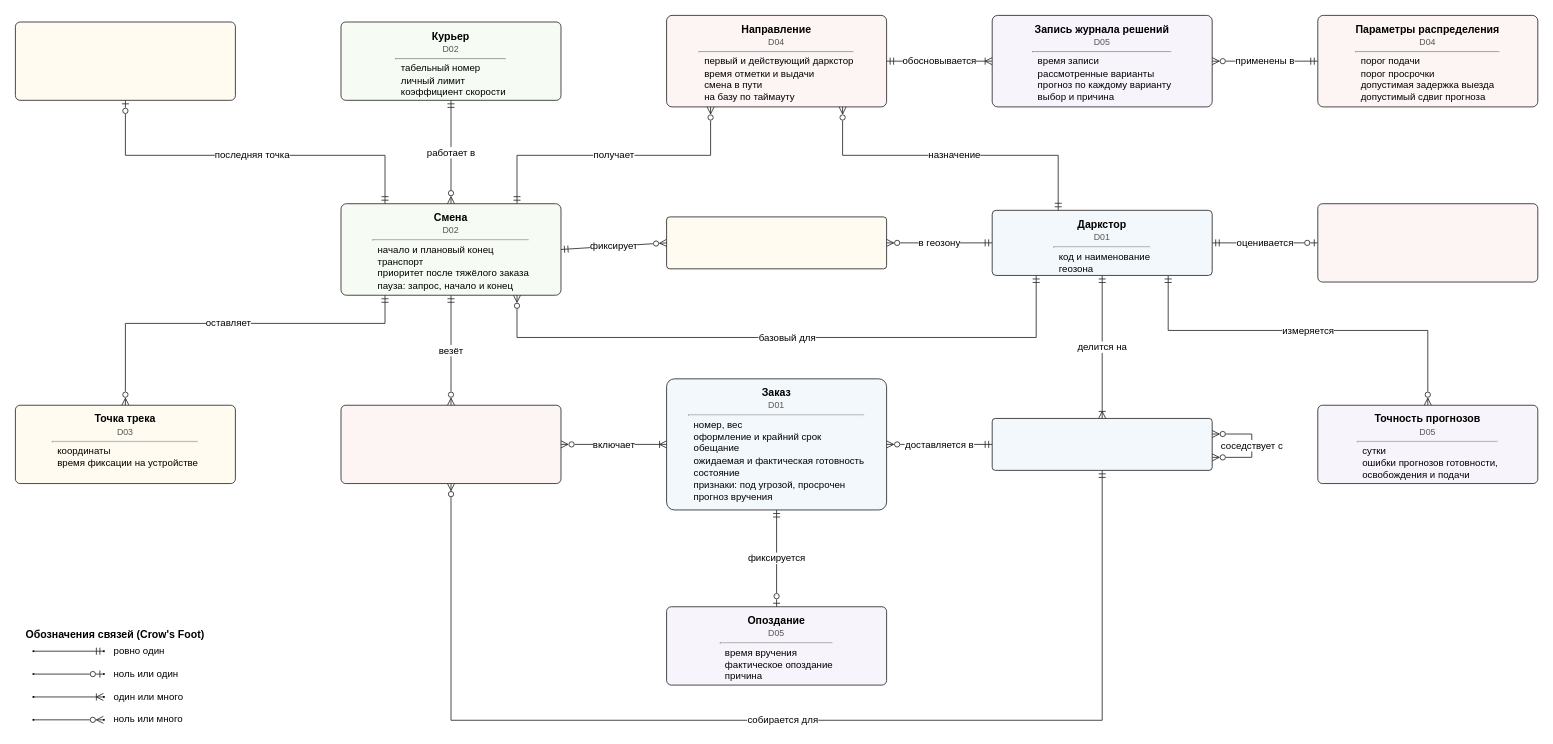
Some shapes in this 1553 by 744 pixel diagram are drawn without their labels. The shapes that lost their labels are listed below. From the top down, each one's centre as x and y in pixels, then its label:
At pixel 125 60: "Местоположение курьера D03 последняя точка время получения прогноз освобождения".
At pixel 776 242: "Прибытие D03 время входа в геозону".
At pixel 1427 242: "Прогноз загрузки D04 число опозданий напряжённый режим причина".
At pixel 450 444: "Связка D04 состояние задержка выезда время выезда".
At pixel 1101 444: "Подзона D01 код и наименование".
